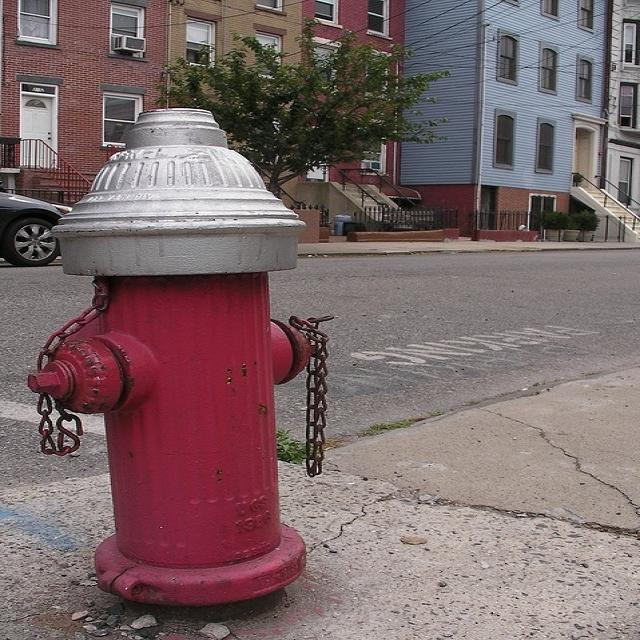fire_hydrant: (11, 96, 378, 621)
